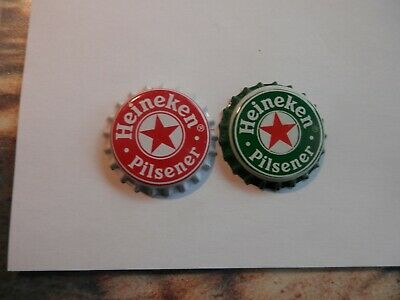heineken: (216, 79, 329, 194)
